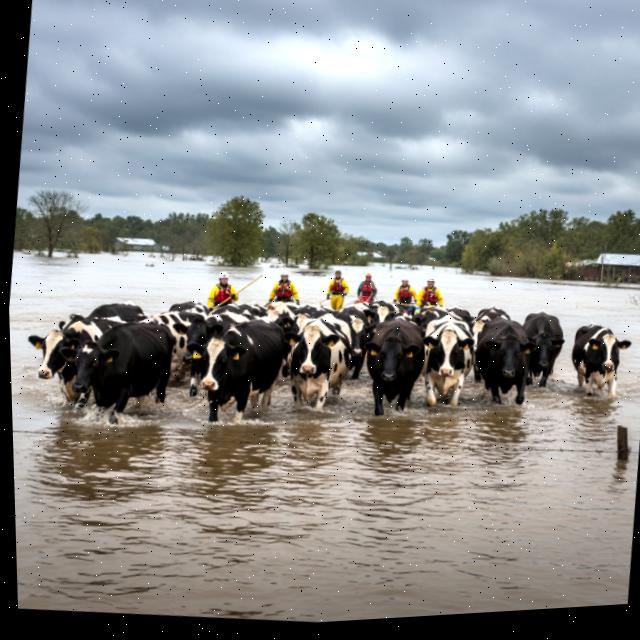cow: (52, 309, 186, 439), (19, 306, 145, 420), (188, 304, 293, 435), (174, 298, 260, 408), (279, 304, 360, 420), (357, 307, 431, 424), (561, 311, 638, 406), (471, 311, 539, 413), (414, 304, 477, 411), (132, 304, 208, 388), (516, 304, 573, 395), (55, 292, 150, 345), (459, 299, 513, 384), (330, 297, 377, 389), (275, 302, 319, 368), (166, 295, 213, 324), (254, 300, 292, 334), (362, 295, 395, 331)
rescuer: (266, 267, 306, 310), (205, 269, 245, 310), (319, 266, 351, 316), (414, 272, 445, 308), (355, 270, 382, 307), (392, 272, 418, 309)
